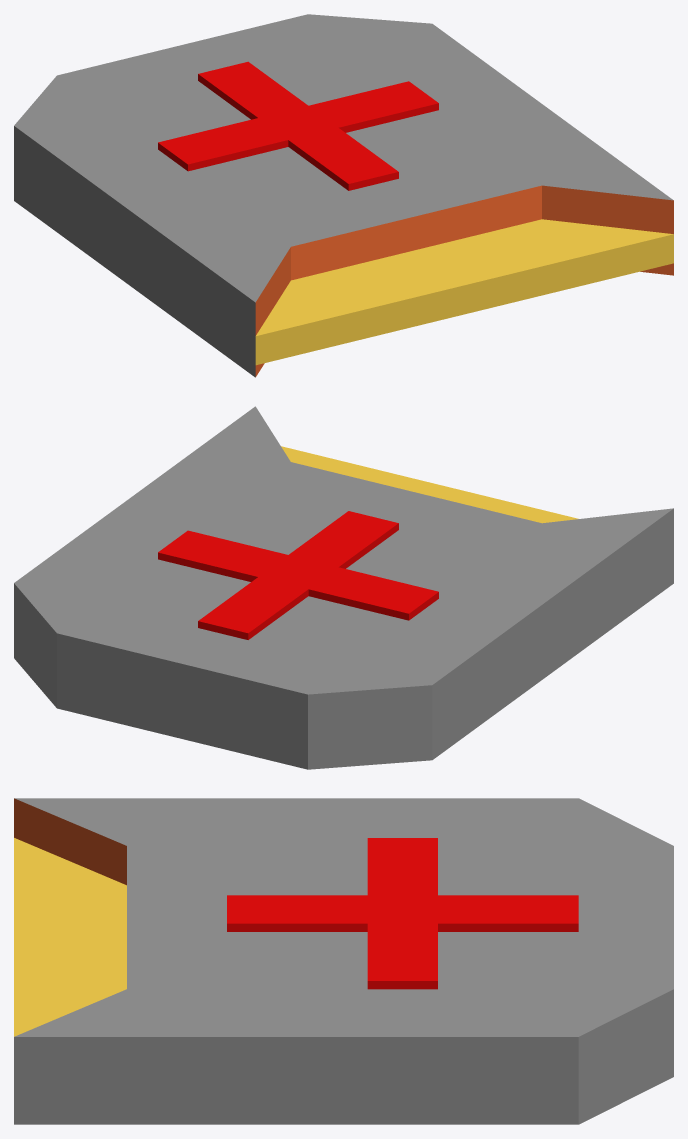
The model's file is Upgrade_Health_01.fbx.
3 views of the same model, one above another, from view 1: azimuth 30°, elevation 25°; view 2: azimuth 150°, elevation 25°; view 3: azimuth 270°, elevation 25° (orthographic). The views are drawn at different scales.
Visible parts, largest first — view 1: Cube.001; view 2: Cube.001; view 3: Cube.001.
Boxes of the visible parts, x1,y1,x2,y2 form: Cube.001: [14, 14, 673, 377]; Cube.001: [14, 406, 673, 769]; Cube.001: [14, 798, 673, 1124].
Bounding box in the file's own units: 86.17 × 17.51 × 101.
